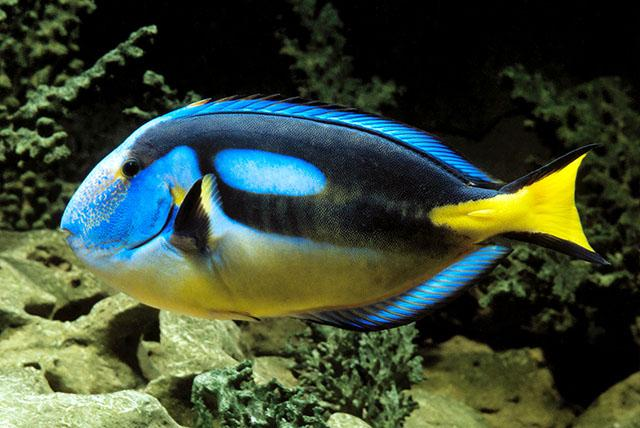Mulut: (42, 196, 96, 280)
Sirip Anal: (282, 235, 516, 338)
Sirip Dada: (158, 161, 240, 271)
Sirip Ekor: (483, 135, 623, 279)
Sirip Perut: (183, 294, 273, 338)
Sirip Punggung: (173, 86, 512, 206)
